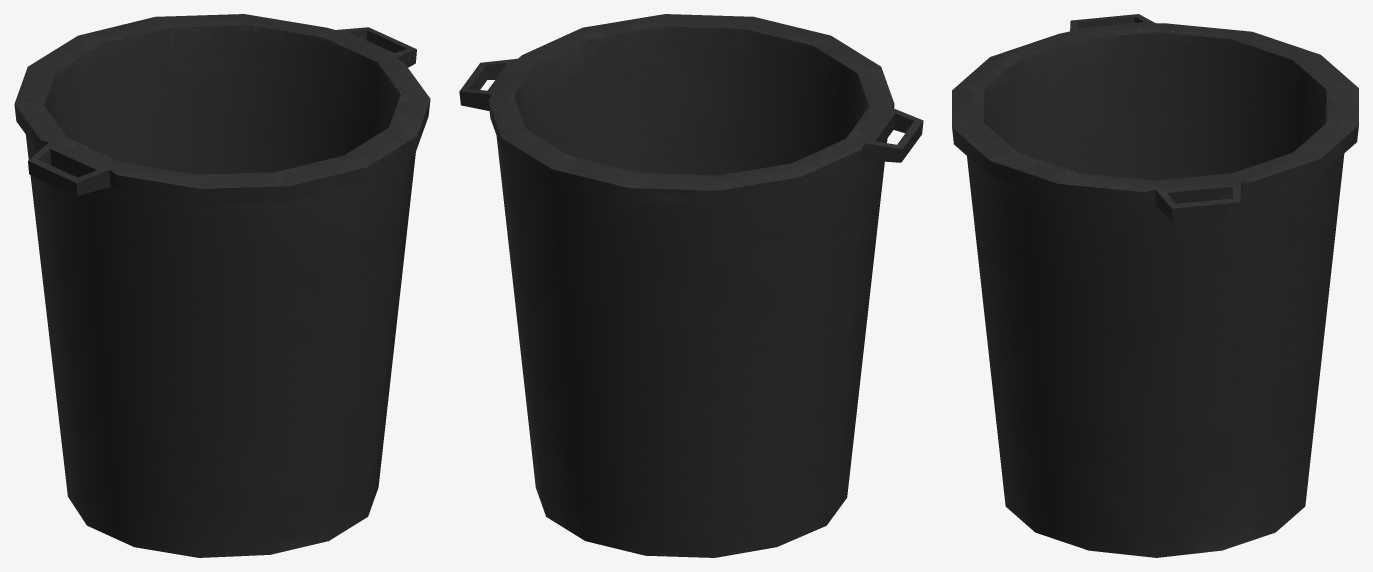
File: Kitchen_Dustbin.fbx
3 views of the same model, side by side, from view 1: azimuth 30°, elevation 25°; view 2: azimuth 150°, elevation 25°; view 3: azimuth 270°, elevation 25° (orthographic).
Visible parts, largest first — view 1: Dustbin; view 2: Dustbin; view 3: Dustbin.
Boxes of the visible parts, <box> form: Dustbin: <box>14,14,430,557</box>; Dustbin: <box>459,14,923,557</box>; Dustbin: <box>952,14,1358,557</box>.
Size of the model in its own units: 579 by 534 by 511.
